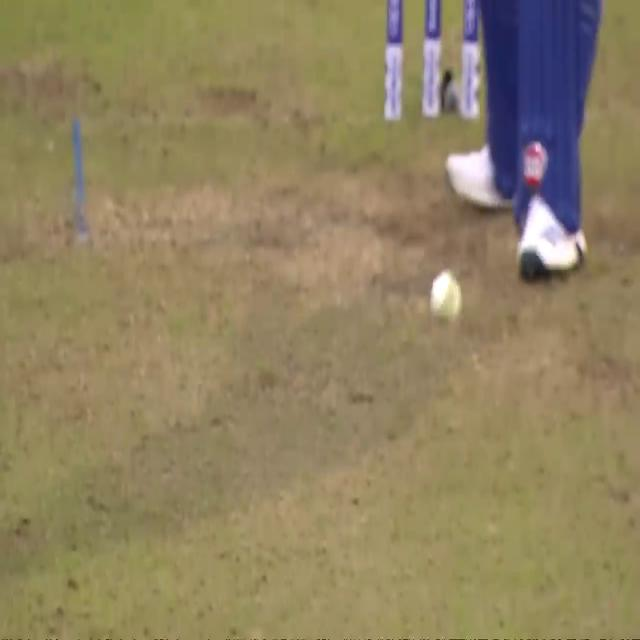ball: (428, 267, 468, 329)
